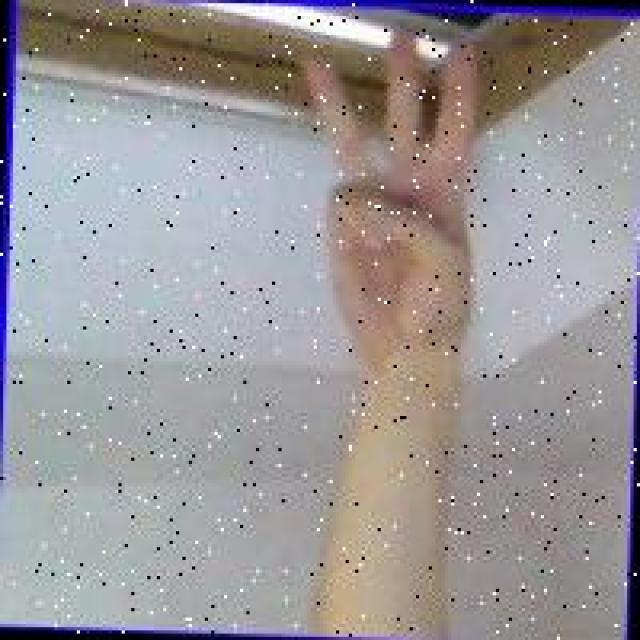W: (288, 22, 493, 356)
